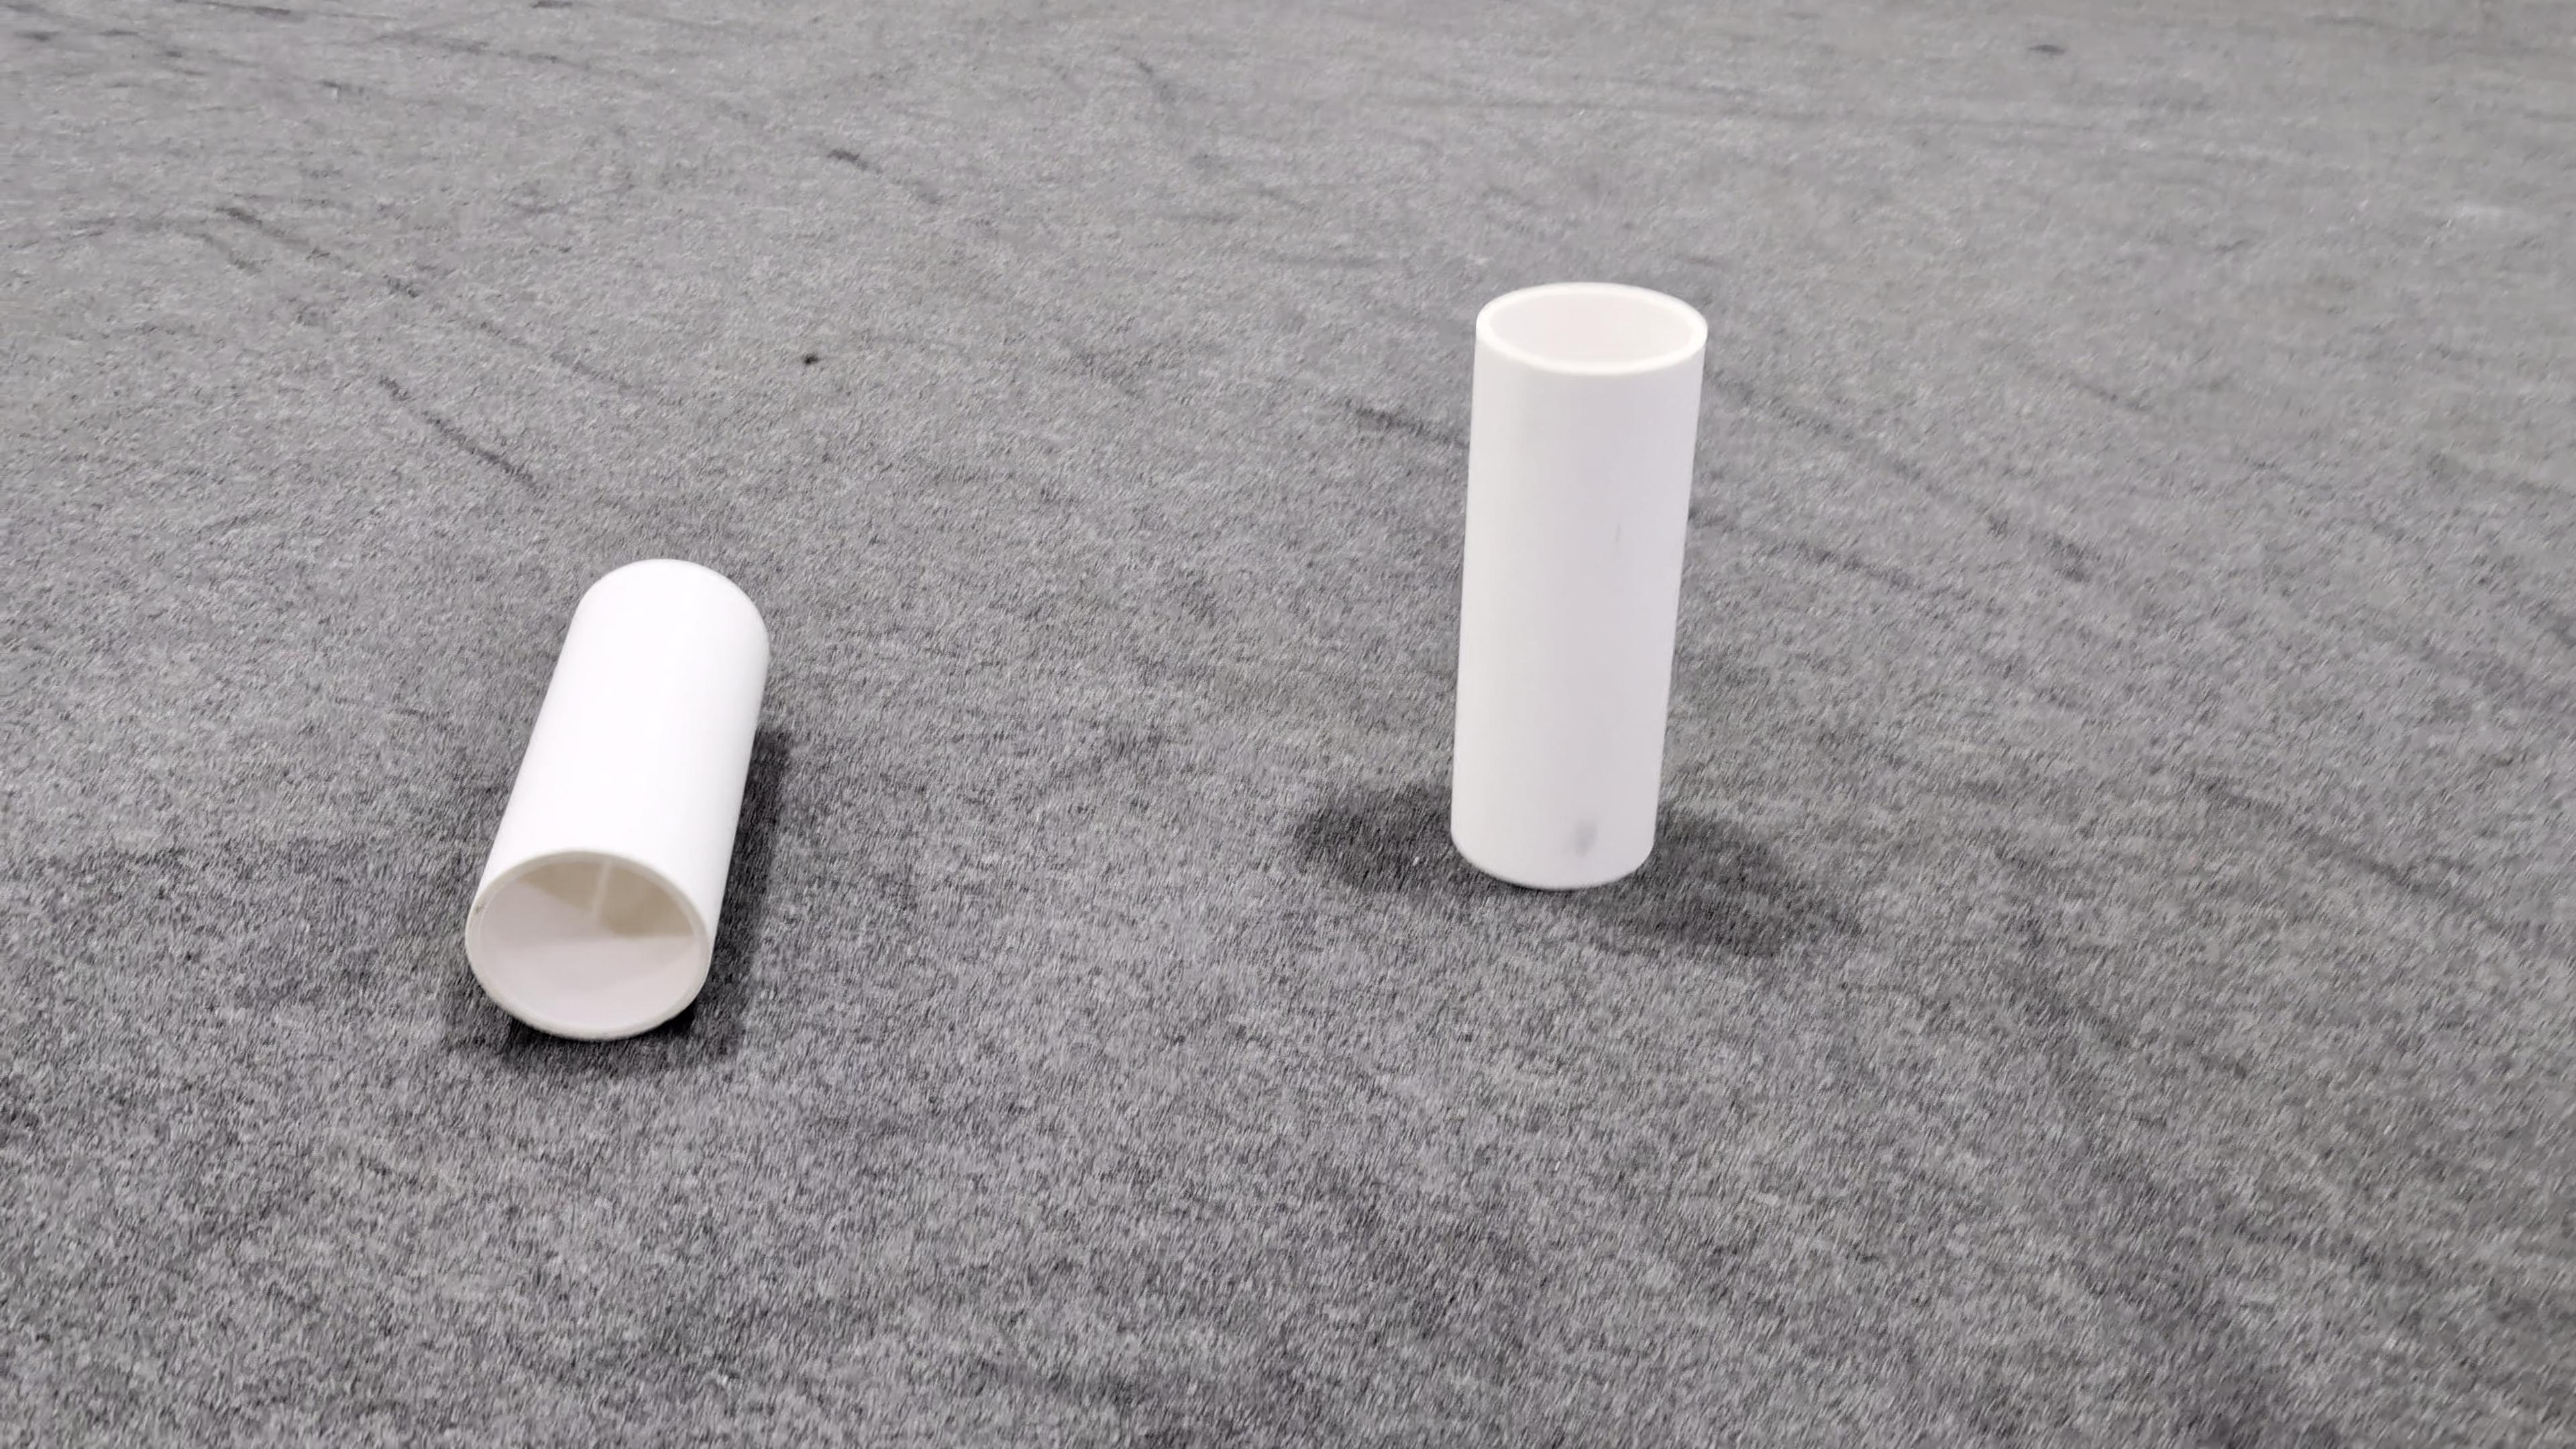coral: (1453, 283, 1709, 890), (467, 561, 770, 1040)
